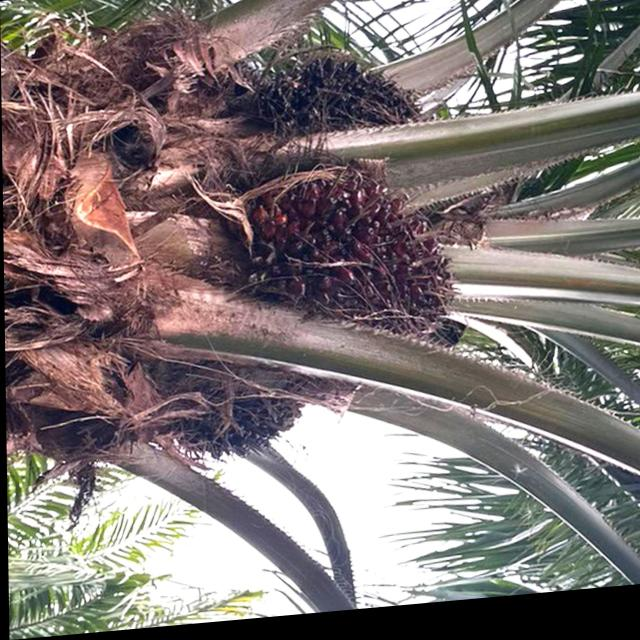ripe: (257, 163, 467, 367), (263, 53, 430, 160), (177, 393, 310, 469)
